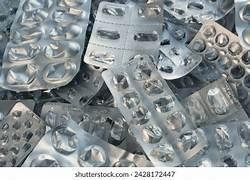pill_Strip: (102, 55, 205, 165), (0, 0, 90, 91), (22, 120, 151, 166), (189, 20, 249, 113), (84, 0, 162, 67), (41, 102, 141, 152), (185, 114, 249, 166), (183, 78, 245, 127), (0, 102, 44, 166), (41, 102, 110, 139), (157, 22, 201, 79), (203, 114, 249, 166), (54, 64, 103, 105), (96, 0, 162, 25), (164, 0, 233, 22), (0, 0, 18, 62), (168, 75, 203, 101), (167, 74, 204, 94), (234, 0, 249, 48), (0, 99, 34, 119), (190, 61, 220, 83), (0, 0, 19, 31), (0, 88, 41, 102), (90, 85, 113, 106), (216, 9, 234, 30), (174, 87, 199, 100), (0, 31, 8, 62)
